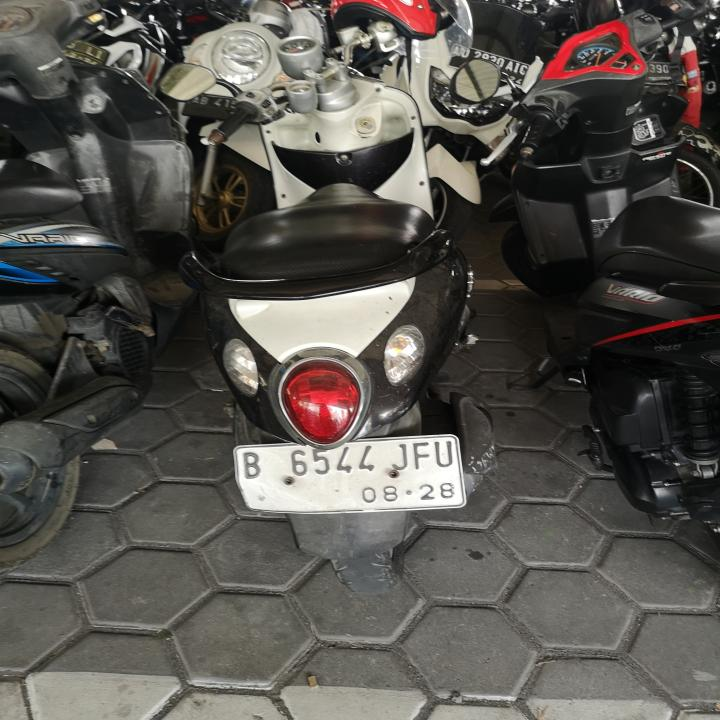plate: (228, 428, 468, 514), (446, 43, 530, 88)
